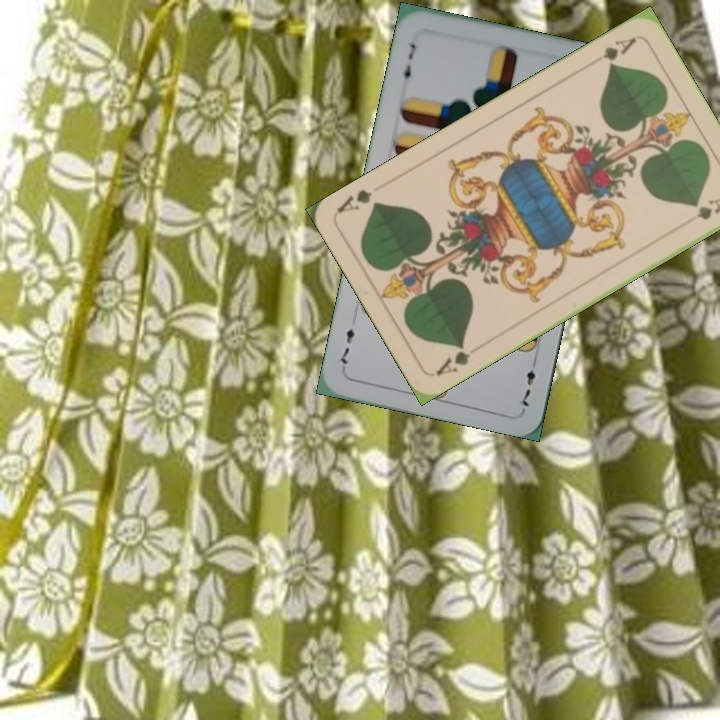E7: (517, 353, 538, 412), (398, 39, 419, 88)
GA: (432, 340, 473, 379), (598, 33, 639, 69)
